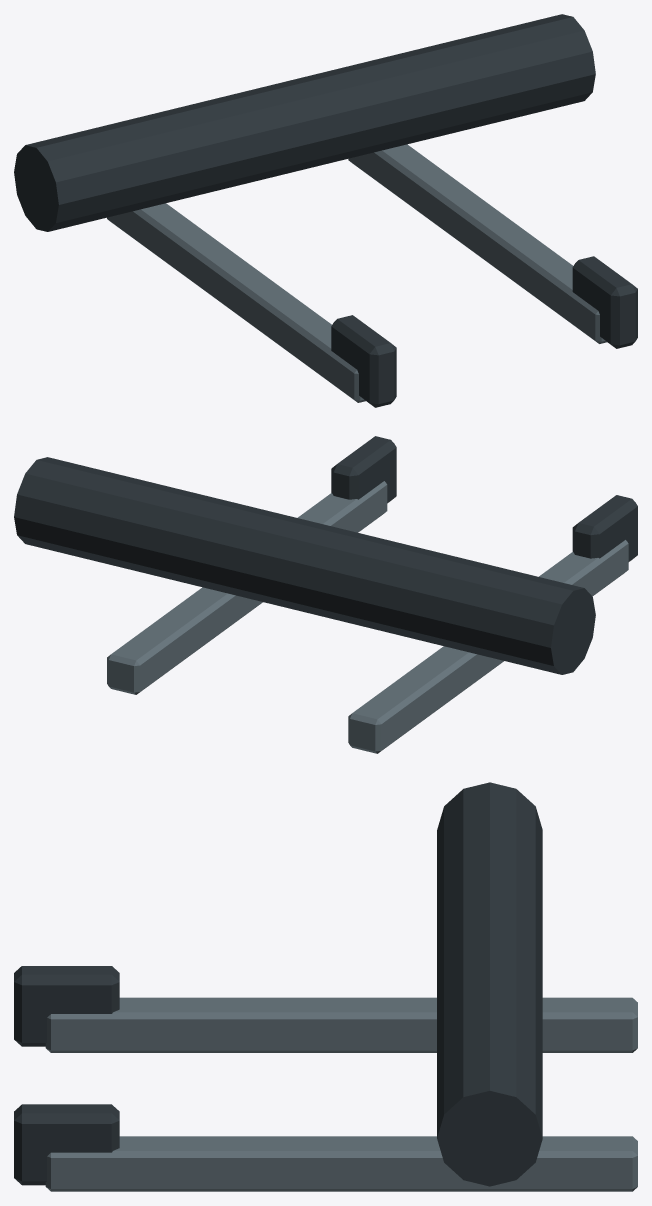
Rendered from Cradle.glb.
The picture shows the model from 3 angles, top to bottom: view 1: azimuth 30°, elevation 25°; view 2: azimuth 150°, elevation 25°; view 3: azimuth 270°, elevation 25°; orthographic projection. The views are drawn at different scales.
Visible parts, largest first — view 1: Sculpture; view 2: Sculpture; view 3: Sculpture.
Part boxes in pixels (<box>): Sculpture: <box>14,14,637,407</box>; Sculpture: <box>14,436,637,753</box>; Sculpture: <box>14,782,637,1191</box>.
Bounding box in the file's own units: 1.38 × 0.3725 × 1.18.
